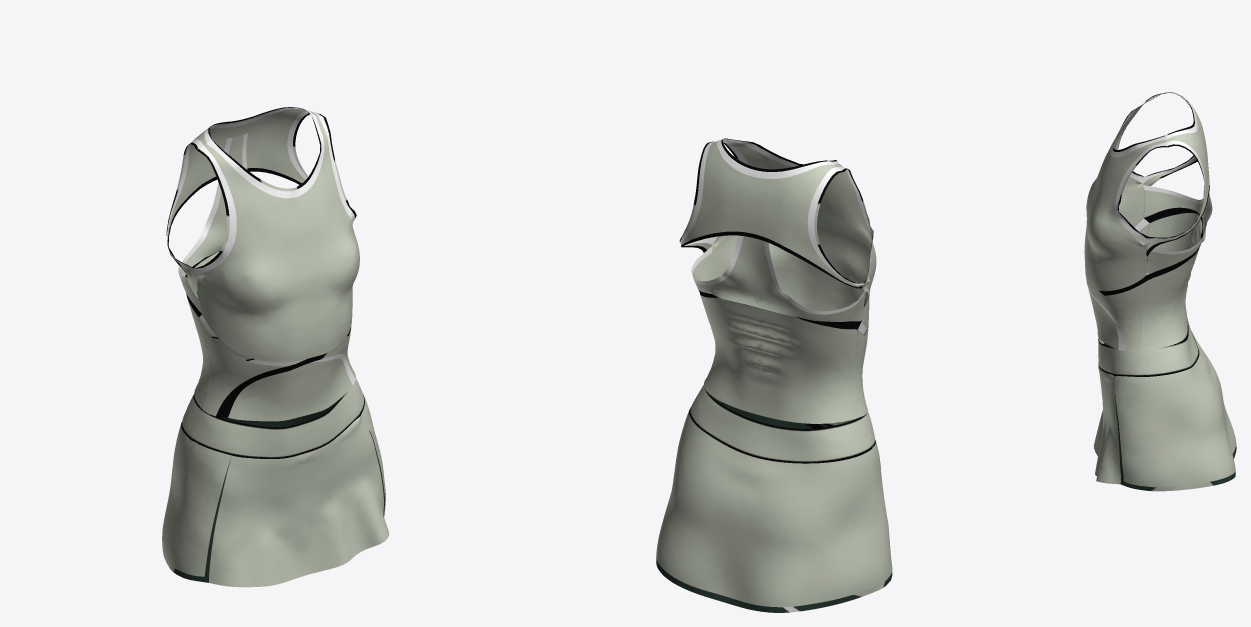
3 renders of one model, left to right at view 1: azimuth 30°, elevation 25°; view 2: azimuth 150°, elevation 25°; view 3: azimuth 270°, elevation 25°, orthographic. The views are drawn at different scales.
Parts seen in each view (by area): view 1: NB; view 2: NB; view 3: NB.
Boxes of the visible parts, x1,y1,x2,y2 form: NB: (162,107,389,587); NB: (656,138,892,612); NB: (1084,92,1236,491).
Bounding box in the file's own units: 0.8032 × 0.9231 × 0.2635.
9 materials, 7 textured.
